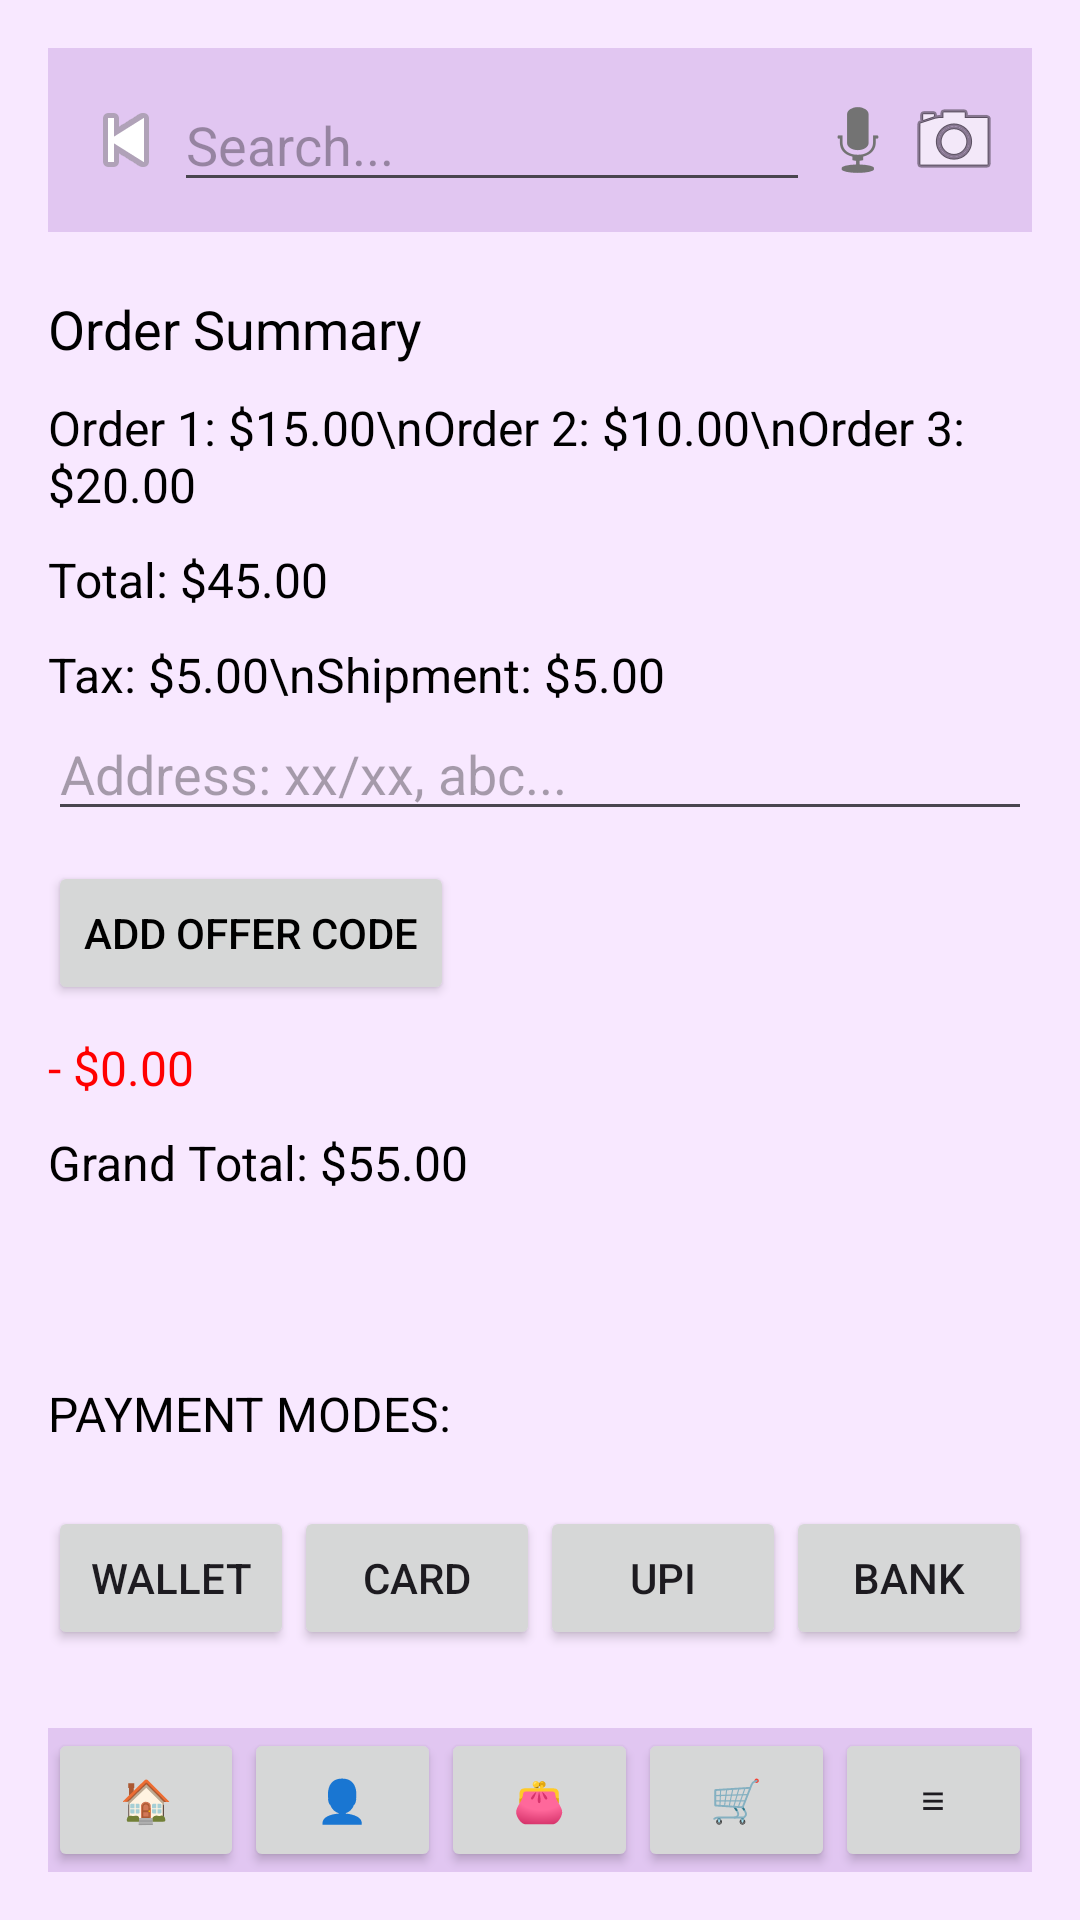

Icon bounding boxes for this 1080px x 1920px phone screenshot, format detection(x1, y1, x2, y2):
Scan QR Code: detection(917, 109, 991, 168)
